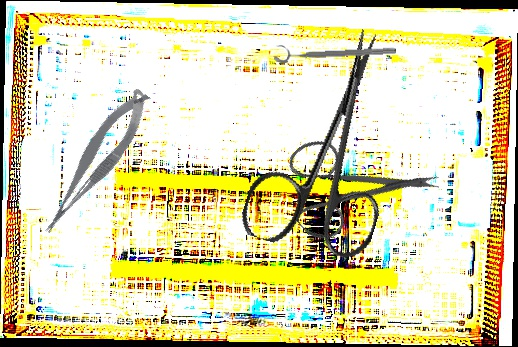Fixation Ring: (273, 37, 397, 64)
Iris Scissors: (236, 11, 430, 270), (261, 91, 444, 274)
Micro Scissor: (25, 84, 164, 239)
